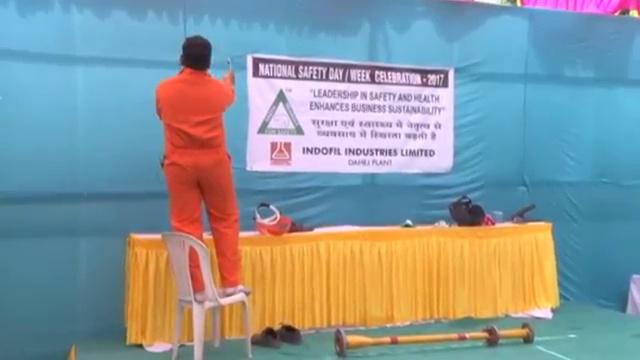helmet_off: (175, 34, 215, 73)
person: (151, 34, 252, 300)
